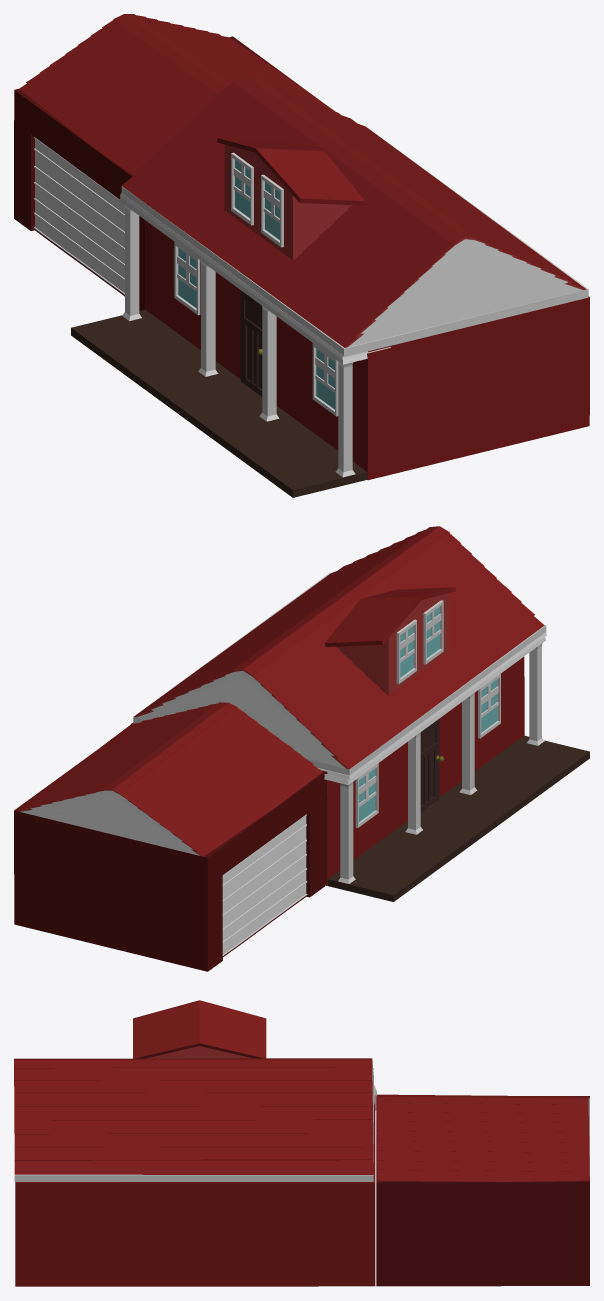
Rendered from House_3.fbx.
3 views of the same model, one above another, from view 1: azimuth 30°, elevation 25°; view 2: azimuth 150°, elevation 25°; view 3: azimuth 270°, elevation 25° (orthographic). The views are drawn at different scales.
Parts seen in each view (by area): view 1: pPrism1, pCube1, pPrism2, pCube12, pCube19, pCube22, pCube2, pCube21, pCube16, pCube15, pCube13, pCube14 (+7 smaller); view 2: pPrism1, pCube19, pPrism2, pCube12, pCube1, pCube22, pCube21, pCube2, pCube16, pCube9, pCube13, pCube14 (+7 smaller); view 3: pPrism1, pCube1, pCube19, pPrism2, pCube22, pCube2, pCube21.
Part boxes in pixels (x1,y1,x2,y2): pPrism1: (122, 74, 586, 347); pCube1: (145, 220, 589, 480); pPrism2: (19, 14, 334, 175); pCube12: (71, 309, 367, 497); pCube19: (14, 36, 315, 310); pCube22: (216, 138, 365, 205); pCube2: (121, 126, 588, 356); pCube21: (224, 144, 351, 260); pCube16: (240, 290, 262, 396); pCube15: (335, 361, 355, 477); pCube13: (198, 261, 218, 376); pCube14: (259, 306, 279, 421); pPrism1: (134, 526, 544, 769); pCube19: (14, 756, 324, 971); pPrism2: (18, 702, 322, 856); pCube12: (328, 735, 589, 901); pCube1: (130, 657, 524, 885); pCube22: (324, 587, 455, 646); pCube21: (337, 593, 448, 695); pCube2: (133, 572, 546, 775); pCube16: (420, 718, 439, 812); pCube9: (338, 781, 355, 883); pCube13: (405, 732, 422, 834); pCube14: (459, 693, 477, 794); pPrism1: (14, 1058, 373, 1174); pCube1: (15, 1095, 375, 1286); pCube19: (376, 1096, 589, 1286); pPrism2: (376, 1094, 589, 1181); pCube22: (133, 1000, 266, 1058); pCube2: (14, 1174, 373, 1181); pCube21: (147, 1046, 250, 1058).
Bounding box in the file's own units: 12.71 × 10.15 × 26.48.
